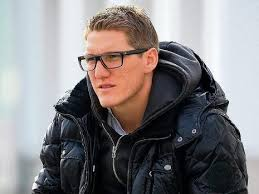Glasses: (72, 54, 146, 71)
